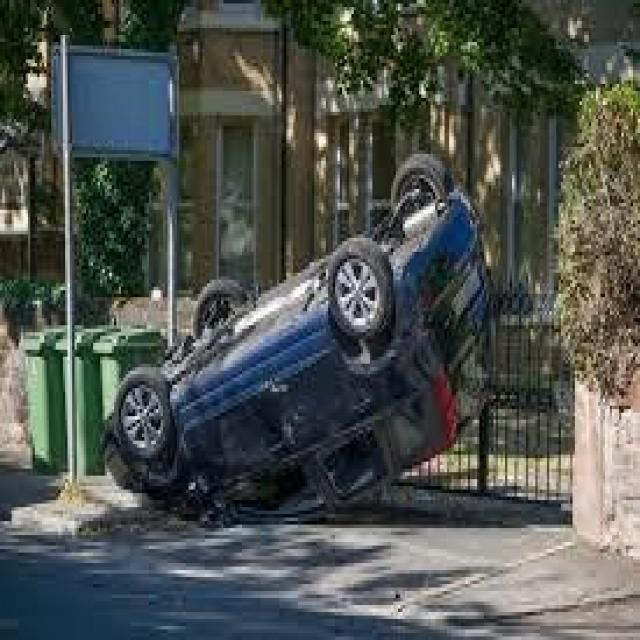single accident: (107, 143, 518, 538)
